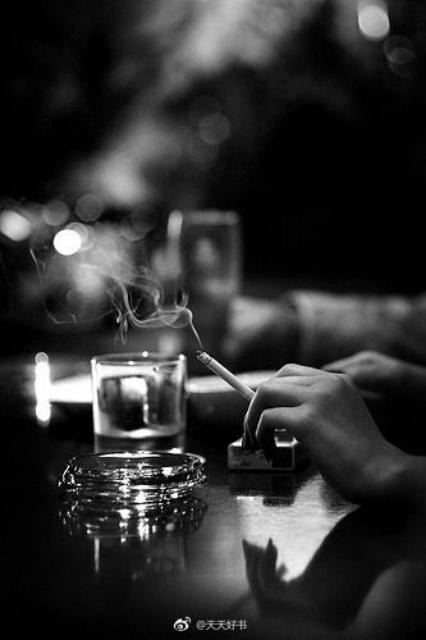Smoking: (193, 346, 255, 402)
